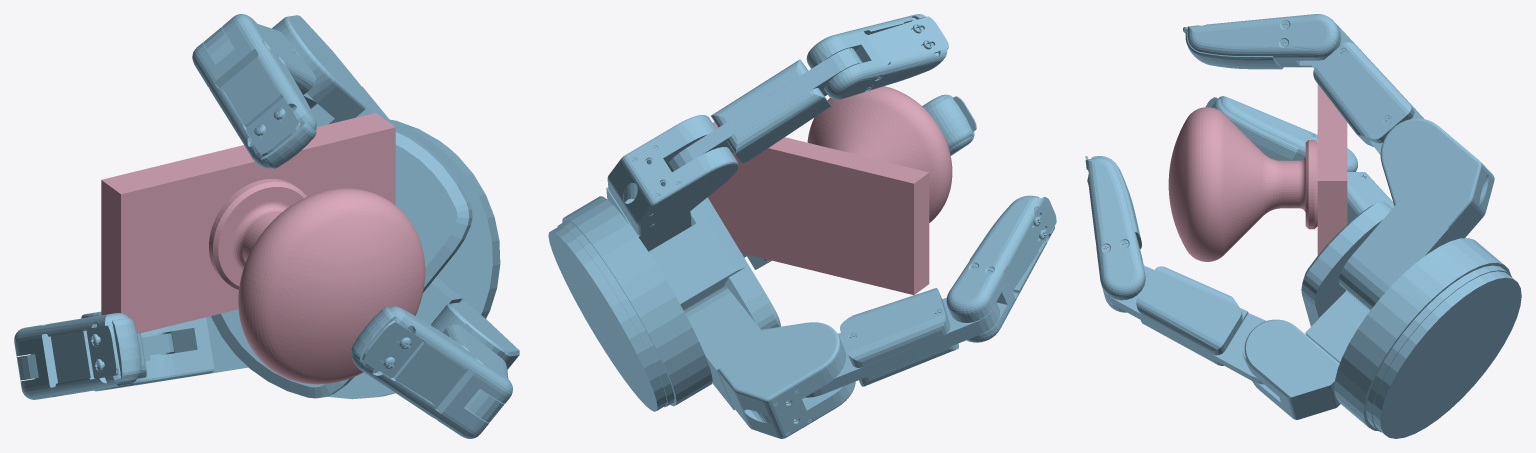
3 views of the same model, side by side, from view 1: azimuth 30°, elevation 25°; view 2: azimuth 150°, elevation 25°; view 3: azimuth 270°, elevation 25° (orthographic). The views are drawn at different scales.
Visible parts, largest first — view 1: world, door_knob.stl; view 2: world, door_knob.stl; view 3: world, door_knob.stl.
Boxes of the visible parts, left/top/right/bottom form: world: left=14, top=14, right=519, bottom=438; door_knob.stl: left=101, top=113, right=425, bottom=384; world: left=548, top=14, right=1056, bottom=438; door_knob.stl: left=707, top=86, right=952, bottom=294; world: left=1085, top=14, right=1521, bottom=438; door_knob.stl: left=1168, top=84, right=1347, bottom=261.
Bounding box in the file's own units: 0.1896 × 0.1622 × 0.1831.
